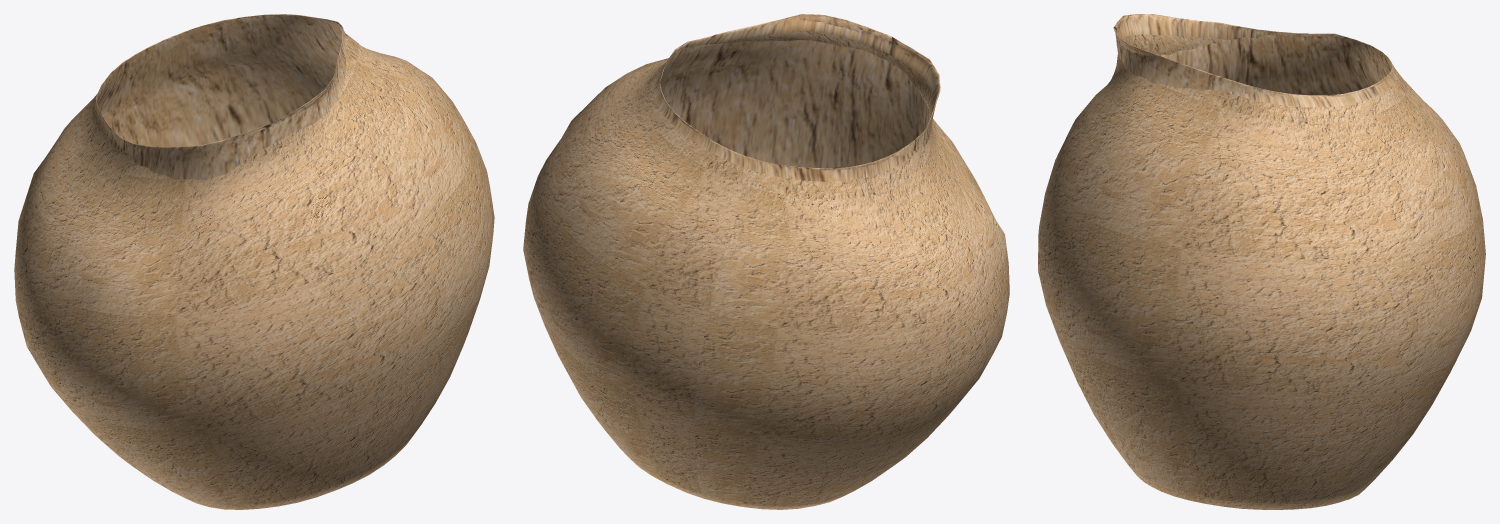
Rendered from broken_vase.glb.
The picture shows the model from 3 angles, left to right: view 1: azimuth 30°, elevation 25°; view 2: azimuth 150°, elevation 25°; view 3: azimuth 270°, elevation 25°; orthographic projection. The views are drawn at different scales.
Parts seen in each view (by area): view 1: uploads_files_2457244_Ancient+vase; view 2: uploads_files_2457244_Ancient+vase; view 3: uploads_files_2457244_Ancient+vase.
Part boxes in pixels (x1,y1,x2,y2): uploads_files_2457244_Ancient+vase: (14, 14, 494, 509); uploads_files_2457244_Ancient+vase: (523, 14, 1009, 509); uploads_files_2457244_Ancient+vase: (1038, 14, 1485, 509).
Bounding box in the file's own units: 1.3 × 1.23 × 1.13.
1 material, 1 textured.
